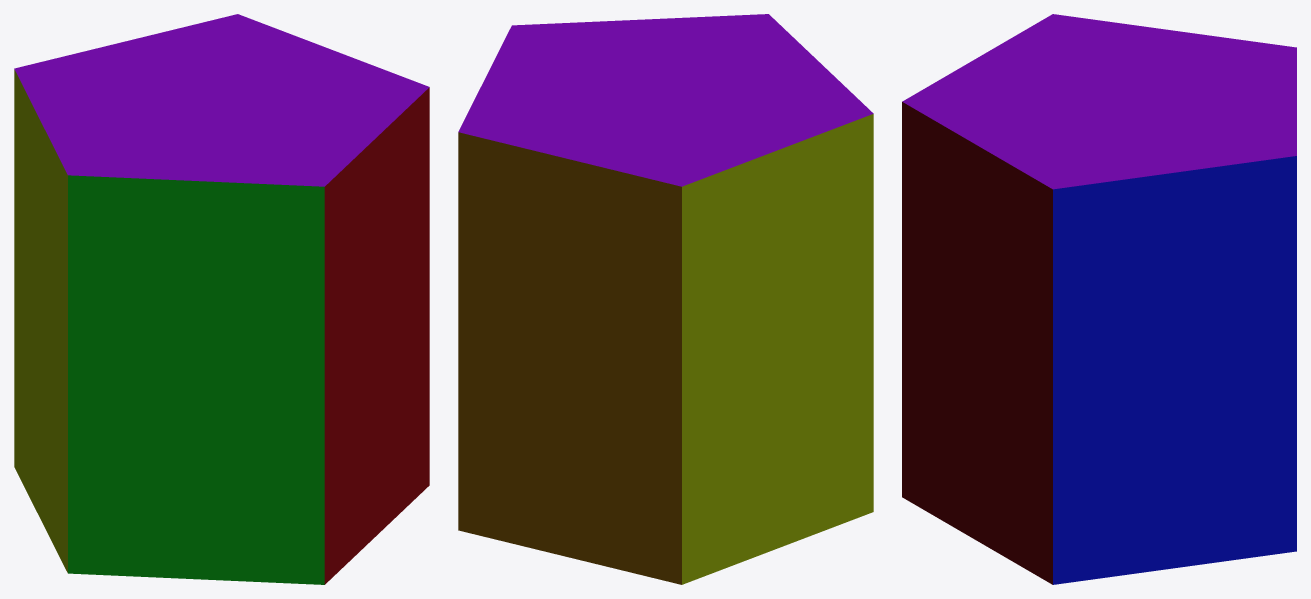
Rendered from prisma-segilima.glb.
The picture shows the model from 3 angles, left to right: view 1: azimuth 30°, elevation 25°; view 2: azimuth 150°, elevation 25°; view 3: azimuth 270°, elevation 25°; orthographic projection.
Visible parts, largest first — view 1: Mesh_Mesh_head_geo.001_lambert2SG.001; view 2: Mesh_Mesh_head_geo.001_lambert2SG.001; view 3: Mesh_Mesh_head_geo.001_lambert2SG.001.
Part boxes in pixels (x1=…): Mesh_Mesh_head_geo.001_lambert2SG.001: x1=14, y1=14, x2=429, y2=584; Mesh_Mesh_head_geo.001_lambert2SG.001: x1=458, y1=14, x2=873, y2=584; Mesh_Mesh_head_geo.001_lambert2SG.001: x1=902, y1=14, x2=1296, y2=584.
Bounding box in the file's own units: 1.9 × 2 × 1.81.
